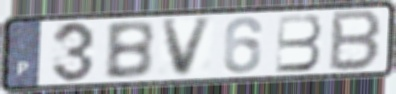3: (50, 20, 97, 85)
6: (221, 15, 264, 75)
B: (326, 8, 385, 73), (103, 18, 157, 81), (274, 12, 324, 75)
V: (159, 15, 216, 80)
